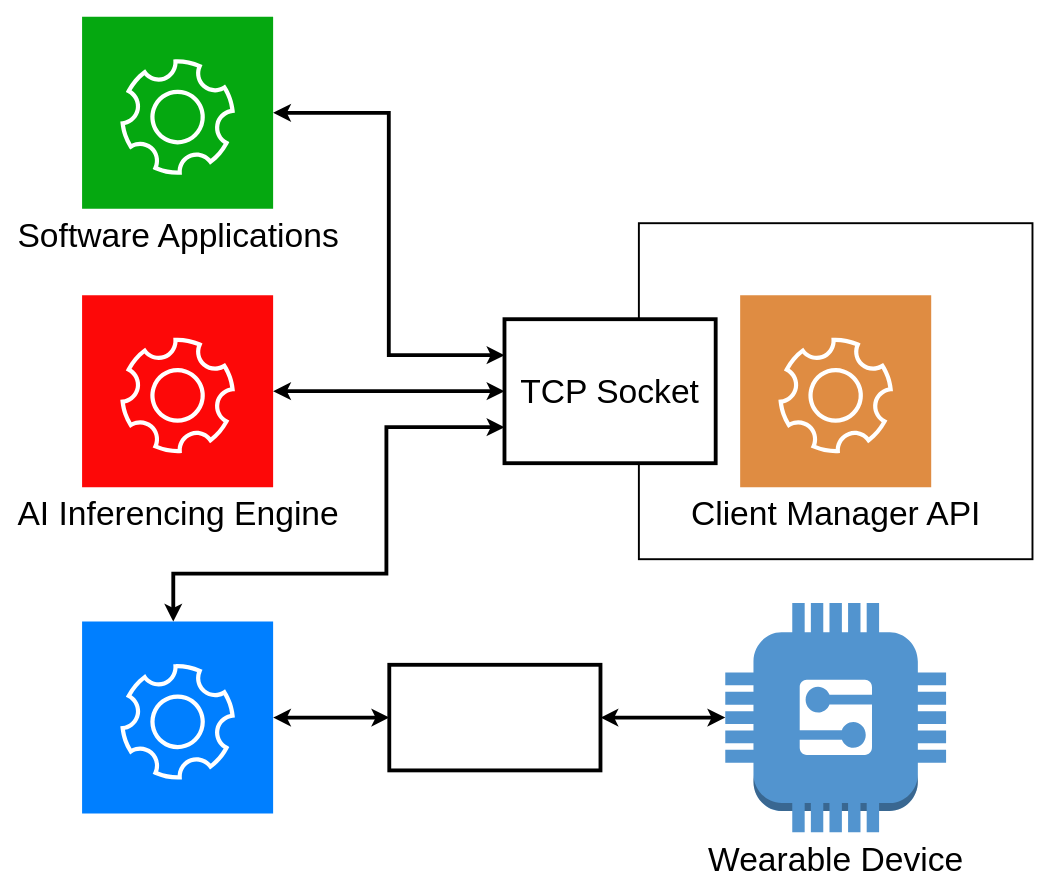
Some shapes in this 1049 by 896 pixel diagram are drawn without their labels. The centre of each missing label's shape, as x and y in pixels:
"Bluetooth Module" goes at (494,717).
"Device Manager API" goes at (177,717).
